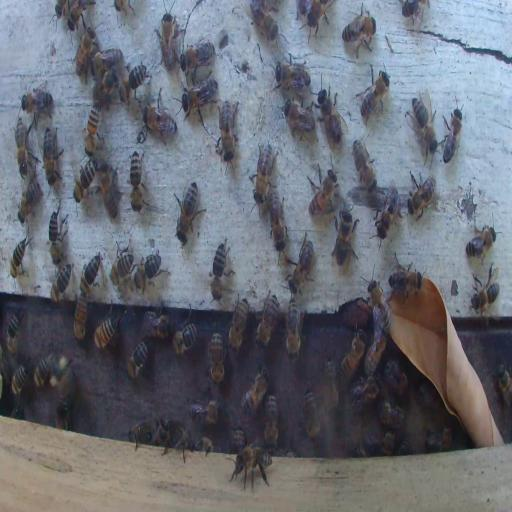bee: (406, 90, 439, 162), (173, 180, 206, 243), (355, 61, 391, 118), (229, 445, 273, 491), (288, 232, 317, 294), (144, 86, 177, 140), (389, 252, 422, 305), (316, 87, 346, 145), (250, 142, 277, 206), (342, 8, 376, 58), (440, 95, 463, 167), (47, 352, 77, 406), (208, 240, 234, 302), (332, 208, 358, 268), (374, 185, 400, 245), (307, 166, 337, 216), (273, 56, 311, 94), (284, 96, 316, 140), (408, 170, 436, 220), (155, 4, 176, 70), (471, 266, 500, 313), (339, 330, 366, 379), (22, 81, 54, 122), (242, 366, 269, 414), (352, 138, 376, 191), (227, 294, 248, 354), (255, 294, 278, 348), (97, 163, 119, 219), (366, 280, 390, 331), (42, 126, 63, 184), (364, 325, 388, 375), (134, 251, 167, 287), (159, 419, 190, 457), (350, 374, 380, 413), (119, 62, 148, 102), (180, 40, 214, 74), (74, 25, 95, 80), (270, 189, 288, 253), (110, 241, 134, 288), (47, 208, 67, 264), (285, 298, 303, 360), (181, 85, 211, 122), (466, 222, 496, 259), (73, 158, 98, 202), (220, 103, 238, 163), (250, 3, 278, 41), (126, 338, 149, 382), (301, 387, 319, 442), (18, 181, 42, 222), (171, 320, 198, 356), (129, 152, 145, 212), (384, 358, 409, 396), (80, 254, 102, 297), (189, 396, 220, 426), (306, 1, 330, 39), (208, 331, 225, 384), (50, 264, 72, 304), (9, 237, 29, 281), (84, 106, 101, 156), (94, 316, 118, 350), (94, 68, 118, 102), (143, 309, 171, 338), (378, 400, 405, 429), (15, 115, 28, 175), (324, 358, 339, 410), (264, 393, 278, 448), (368, 430, 396, 456), (92, 48, 122, 72), (425, 427, 453, 451), (74, 293, 88, 341), (10, 362, 28, 398), (129, 422, 153, 448), (6, 314, 19, 358), (497, 364, 511, 404), (34, 356, 50, 388), (56, 398, 68, 430), (231, 428, 246, 452), (191, 438, 214, 452), (158, 419, 170, 444), (398, 436, 412, 454)
